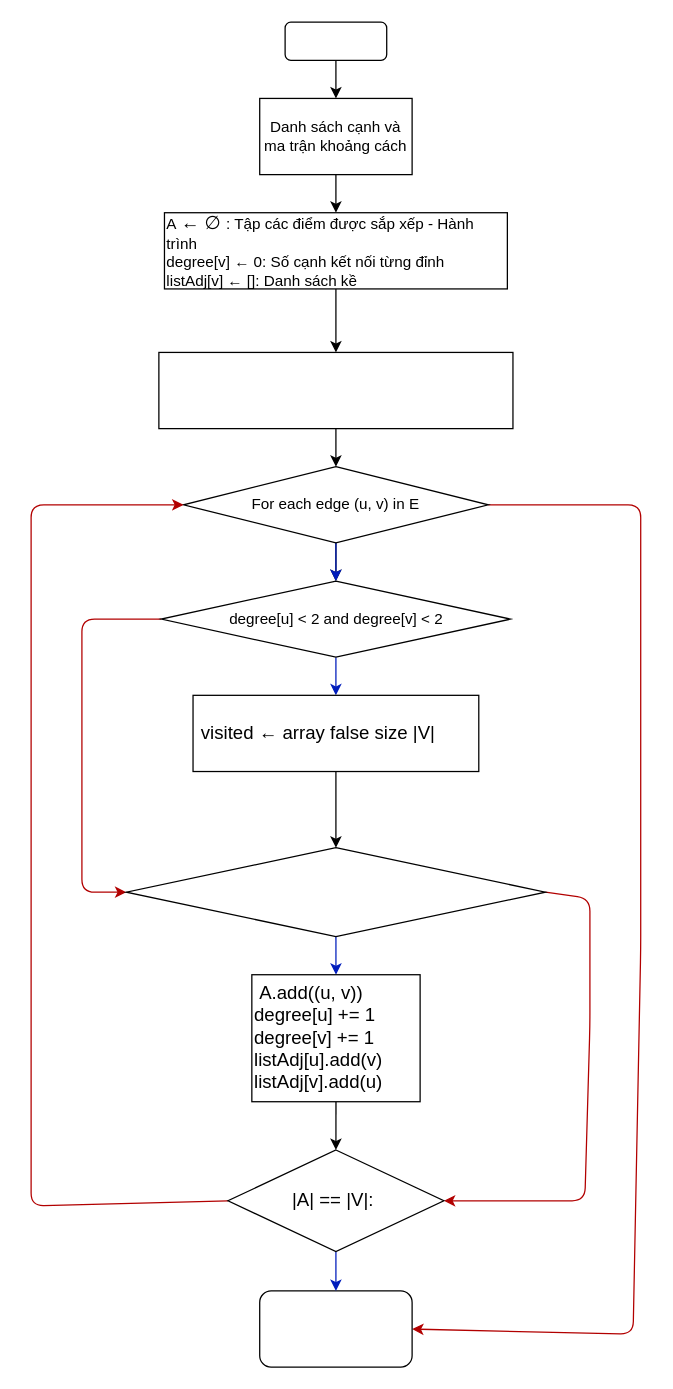
The diagram is 673 pixels wide and 1389 high, and some of its shapes have lost their labels. Here are the shapes that lost their labels. From the top down, the centre of each, then its label:
the point at 335,40: Start
the point at 335,390: Sort(E): sắp xếp danh sách cạnh tăng dần
the point at 335,891: NOT canReach(u, v, visited) or |A| == |V| - 1
the point at 335,1328: Return A
